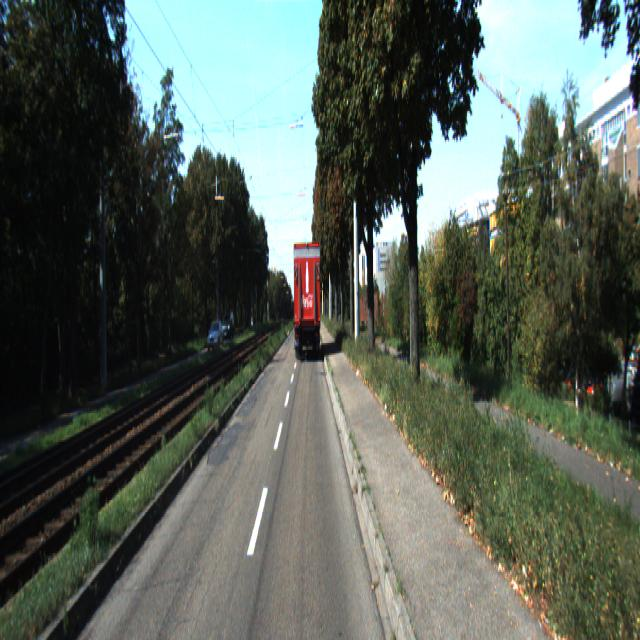Car: (207, 320, 224, 354)
DontCare: (227, 308, 236, 347)
Truck: (291, 239, 322, 363)
